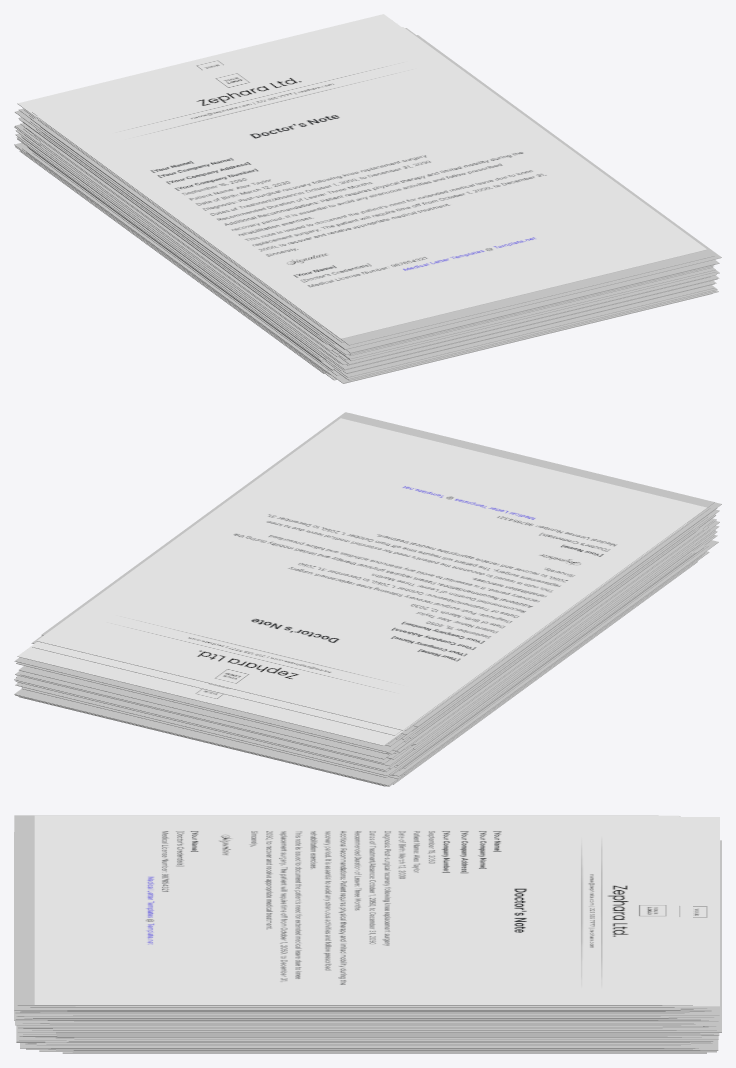
Rendered from stack of paper .fbx.
3 renders of one model, top to bottom at view 1: azimuth 30°, elevation 25°; view 2: azimuth 150°, elevation 25°; view 3: azimuth 270°, elevation 25°, orthographic. The views are drawn at different scales.
Visible parts, largest first — view 1: Plane.099, Plane.096, Plane.094, Plane.098, Plane.045, Plane.097, Plane.082, Plane.024, Plane.034, Plane.068, Plane.057, Plane.063 (+22 smaller); view 2: Plane.099, Plane.096, Plane.081, Plane.006, Plane.098, Plane.097, Plane.094, Plane.028, Plane.064, Plane.043, Plane.052, Plane.050 (+16 smaller); view 3: Plane.099, Plane.096, Plane.098, Plane.094, Plane.097, Plane.013, Plane.063, Plane.028, Plane.050, Plane.056, Plane.075, Plane.081 (+34 smaller).
Part boxes in pixels (x1,y1,x2,y2): Plane.099: (37,27,707,339); Plane.096: (17,14,401,326); Plane.094: (41,35,721,349); Plane.098: (59,133,714,345); Plane.045: (41,146,719,369); Plane.097: (32,23,399,115); Plane.082: (346,260,715,353); Plane.024: (325,285,714,377); Plane.034: (343,280,716,373); Plane.068: (343,267,715,359); Plane.057: (339,272,716,364); Plane.063: (26,127,334,350); Plane.099: (37,418,706,730); Plane.096: (17,523,687,745); Plane.081: (14,529,692,752); Plane.006: (14,689,494,785); Plane.098: (342,413,714,711); Plane.097: (32,642,401,735); Plane.094: (41,412,721,726); Plane.028: (15,553,691,775); Plane.064: (19,665,390,759); Plane.043: (14,676,413,770); Plane.052: (20,672,390,763); Plane.050: (15,543,693,765); Plane.099: (34,815,679,1005); Plane.096: (75,817,719,1006); Plane.098: (17,816,661,1005); Plane.094: (14,815,658,1010); Plane.097: (679,817,692,1005); Plane.013: (54,1043,698,1048); Plane.063: (49,1021,693,1024); Plane.028: (74,1035,718,1039); Plane.050: (72,1021,716,1030); Plane.056: (18,1025,662,1028); Plane.075: (24,1016,668,1018); Plane.081: (73,1007,717,1015).
Size of the model in its own units: 14.27 by 1.59 by 21.9.
